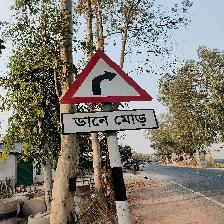Right-turn: (59, 50, 157, 136)
